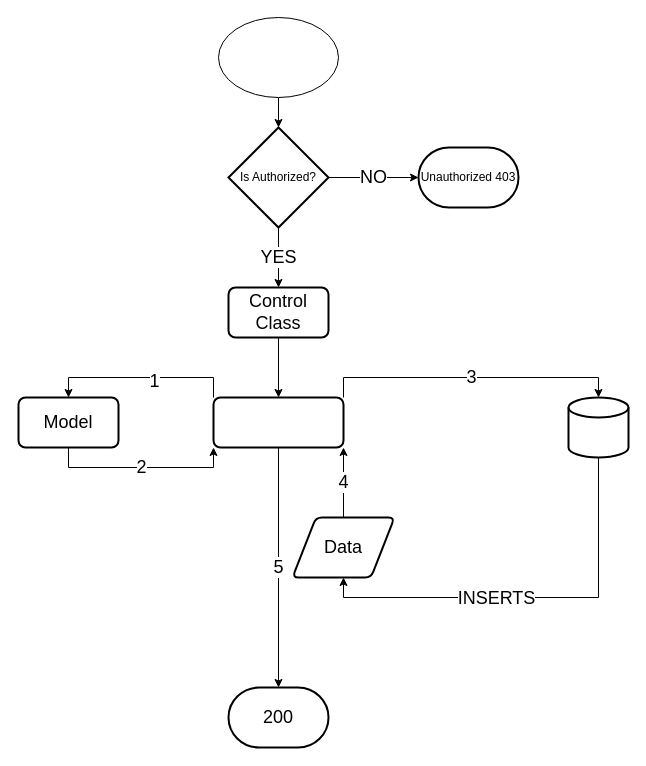
This 646x766 diagram has some shape labels left out. The shapes that lost their labels are listed below. From the top down, each one's centre as x and y in pixels, then its label:
At pixel 278 57: "Start".
At pixel 278 422: "Database Manager Class".
At pixel 598 427: "Query".
